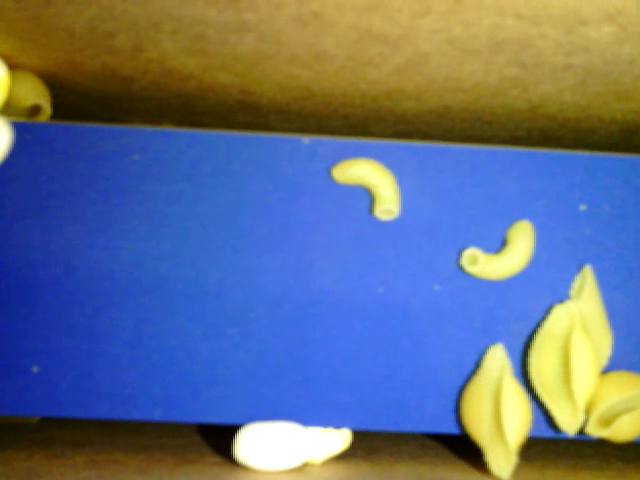elbow: (327, 156, 402, 225), (458, 216, 537, 281)
penne: (566, 263, 619, 369)
shell: (455, 338, 534, 477), (524, 300, 597, 436), (584, 371, 637, 447), (1, 70, 61, 127)
